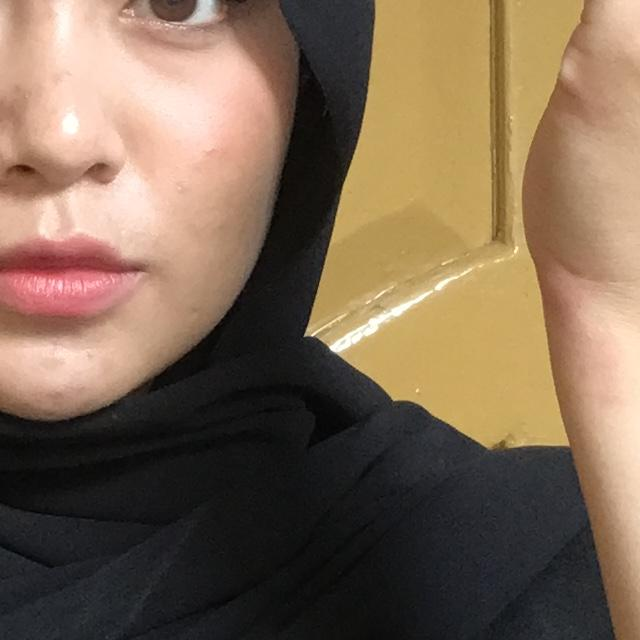kapan: (460, 0, 640, 606)
